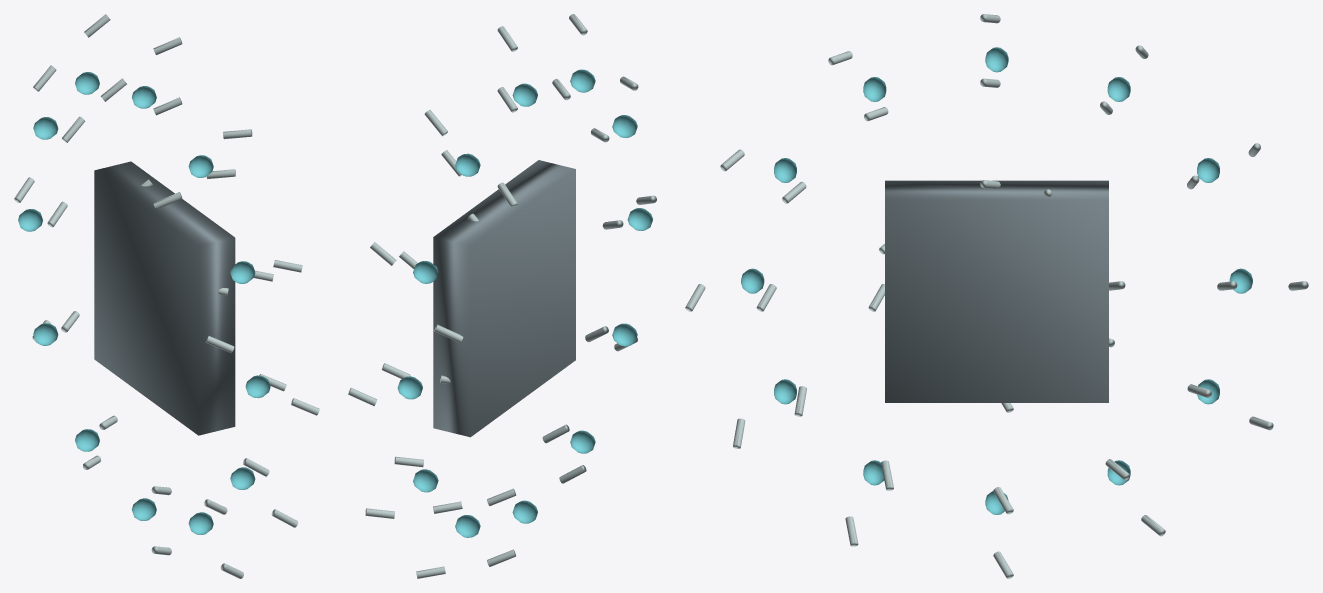
File: z_disc.glb
3 renders of one model, left to right at view 1: azimuth 30°, elevation 25°; view 2: azimuth 150°, elevation 25°; view 3: azimuth 270°, elevation 25°, orthographic. The views are drawn at different scales.
Visible parts, largest first — view 1: ZDisc_CenterWeb, ActinAnchor_04, ActinAnchor_09, ActinAnchor_10, ActinAnchor_11, ActinAnchor_01, ActinAnchor_02, ActinAnchor_07, ActinAnchor_05, ActinAnchor_03, ActinAnchor_06, ActinAnchor_12 (+1 smaller); view 2: ZDisc_CenterWeb, ActinAnchor_10, ActinAnchor_02, ActinAnchor_05, ActinAnchor_06, ActinAnchor_03, ActinAnchor_09, ActinAnchor_12, ActinAnchor_01, ActinAnchor_07, ActinAnchor_08, ActinAnchor_11 (+1 smaller); view 3: ZDisc_CenterWeb.
Boxes of the visible parts, x1,y1,x2,y2 form: ZDisc_CenterWeb: (94, 161, 235, 435); ActinAnchor_04: (245, 375, 270, 398); ActinAnchor_09: (33, 323, 58, 345); ActinAnchor_10: (18, 209, 42, 231); ActinAnchor_11: (33, 117, 58, 139); ActinAnchor_01: (131, 86, 156, 108); ActinAnchor_02: (188, 155, 213, 177); ActinAnchor_07: (131, 498, 156, 520); ActinAnchor_05: (230, 467, 255, 489); ActinAnchor_03: (230, 261, 255, 283); ActinAnchor_06: (188, 512, 213, 534); ActinAnchor_12: (75, 72, 99, 94); ZDisc_CenterWeb: (433, 160, 575, 437); ActinAnchor_10: (397, 376, 422, 399); ActinAnchor_02: (570, 69, 595, 92); ActinAnchor_05: (612, 323, 637, 346); ActinAnchor_06: (570, 430, 595, 453); ActinAnchor_03: (612, 115, 637, 137); ActinAnchor_09: (413, 469, 438, 492); ActinAnchor_12: (455, 153, 480, 176); ActinAnchor_01: (512, 83, 537, 106); ActinAnchor_07: (512, 500, 537, 523); ActinAnchor_08: (455, 515, 480, 537); ActinAnchor_11: (413, 261, 438, 283); ZDisc_CenterWeb: (885, 180, 1108, 402).
Bounding box in the file's own units: 0.0615 × 0.6123 × 0.6123.
